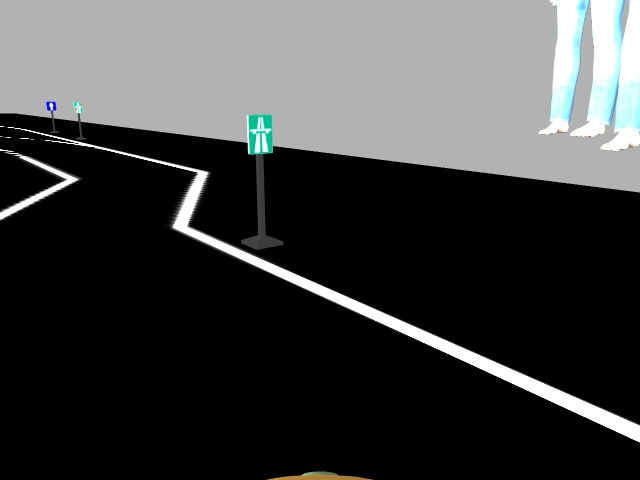HighwayEntrance: (248, 115, 271, 153)
HighwayExit: (72, 102, 81, 115)
OneWay: (46, 102, 57, 111)
